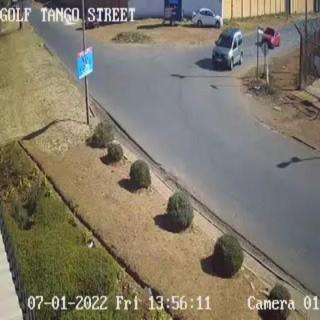car: (212, 28, 244, 69), (256, 27, 281, 50), (190, 9, 221, 27)
